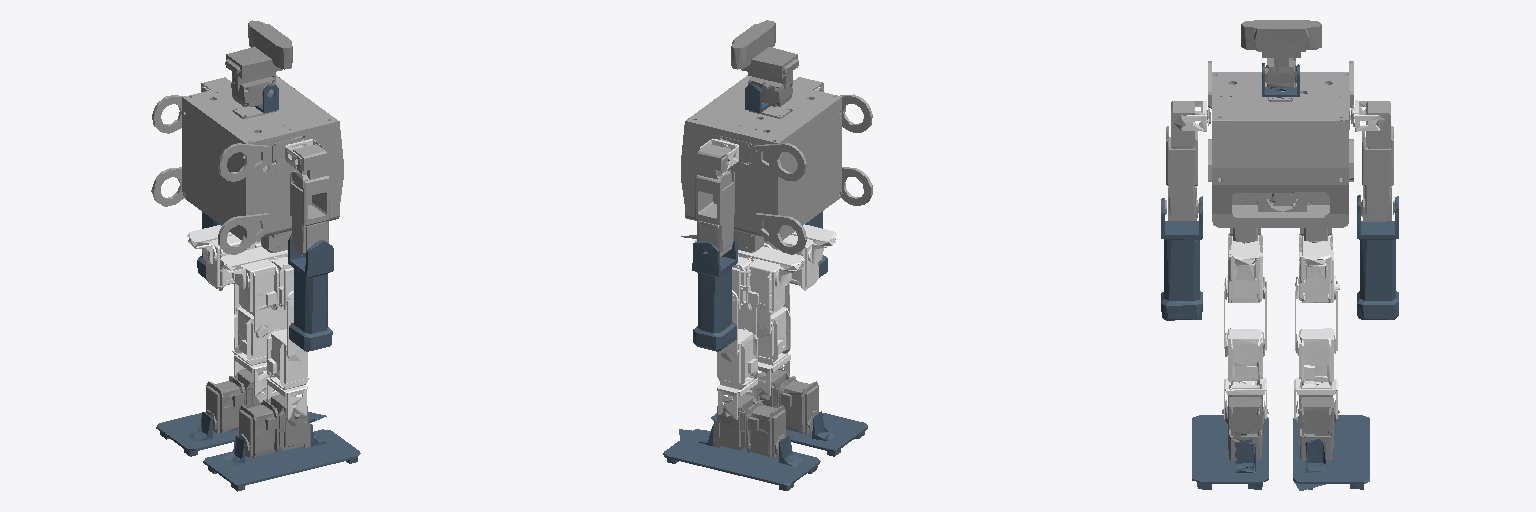
robot.urdf — bez2:
<?xml version="1.0" ?>
<!-- =================================================================================== -->
<!-- |    This document was autogenerated by xacro from bez2_description/urdf/bez2.xacro | -->
<!-- |    EDITING THIS FILE BY HAND IS NOT RECOMMENDED                                 | -->
<!-- =================================================================================== -->
<robot name="bez2" >
  <mujoco> <compiler fusestatic="false"/> </mujoco>
  <material name="silver_default">
    <color rgba="0.700 0.700 0.700 1.000"/>
  </material>
  <material name="aluminum_satin">
    <color rgba="0.9607843137254902 0.9607843137254902 0.9647058823529412 1.0"/>
  </material>
  <material name="steel_satin">
    <color rgba="0.6274509803921569 0.6274509803921569 0.6274509803921569 1.0"/>
  </material>
  <material name="abs_white">
    <color rgba="0.36470588235294116 0.4392156862745098 0.5098039215686274 1.0"/>
  </material>
  <link name="trunk">
    <inertial>
      <origin rpy="0 0 0" xyz="-0.1324929347181477 0.00329389202927954 -0.02671963219571571"/> <!-- cant decide between -0.14 -0.13 -0.12-->

      <mass value="1.4429325287174738"/>
      <inertia ixx="0.009761" ixy="7.9e-05" ixz="-0.000195" iyy="0.006663" iyz="8.1e-05" izz="0.008082"/>
    </inertial>
    <visual>
      <origin rpy="0 0 0" xyz="0 0 0"/>
      <geometry>
        <mesh filename="base_link.stl" scale="0.001 0.001 0.001"/>
      </geometry>
      <material name="silver_default"/>
    </visual>
    <collision>
      <origin rpy="0 0 0" xyz="0 0 0"/>
      <geometry>
        <mesh filename="base_link.stl" scale="0.001 0.001 0.001"/>
      </geometry>
    </collision>
  </link>
  <link name="left_hip_side">
    <inertial>
      <origin rpy="0 0 0" xyz="-0.0176303342104258 -2.8796409701214998e-15 -0.007188418776152797"/>
      <mass value="0.03929574358294283"/>
      <inertia ixx="7e-06" ixy="0.0" ixz="4e-06" iyy="9.2e-05" iyz="0.0" izz="9e-05"/>
    </inertial>
    <visual>
      <origin rpy="0 0 0" xyz="-0.016 -0.04125 0.1085"/>
      <geometry>
        <mesh filename="left_hip_side_v5_1.stl" scale="0.001 0.001 0.001"/>
      </geometry>
      <material name="aluminum_satin"/>
    </visual>
    <collision>
      <origin rpy="0 0 0" xyz="-0.016 -0.04125 0.1085"/>
      <geometry>
        <mesh filename="left_hip_side_v5_1.stl" scale="0.001 0.001 0.001"/>
      </geometry>
    </collision>
  </link>
  <link name="left_foot">
    <inertial>
      <origin rpy="0 0 0" xyz="0.05312327716355333 0.01311710007932914 -0.017187548637288774"/>
      <mass value="0.03929273129474386"/>
      <inertia ixx="2.6e-05" ixy="2e-06" ixz="-3e-06" iyy="0.000124" iyz="2e-06" izz="0.000144"/>
    </inertial>
    <visual>
      <origin rpy="0 0 0" xyz="0.054731 -0.04125 0.3685"/>
      <geometry>
        <mesh filename="left_foot_v10_1.stl" scale="0.001 0.001 0.001"/>
      </geometry>
      <material name="abs_white"/>
    </visual>
    <collision>
      <origin rpy="0 0 0" xyz="0.054731 -0.04125 0.3685"/>
      <geometry>
        <mesh filename="left_foot_v10_1.stl" scale="0.001 0.001 0.001"/>
      </geometry>
    </collision>
  </link>
  <link name="left_shoulder">
    <inertial>
      <origin rpy="0 0 0" xyz="8.922688803092438e-11 0.007844026821939576 2.0192181260370035e-14"/>
      <mass value="0.010592862408759271"/>
      <inertia ixx="1e-06" ixy="0.0" ixz="0.0" iyy="3e-06" iyz="-0.0" izz="3e-06"/>
    </inertial>
    <visual>
      <origin rpy="0 0 0" xyz="-0.003 -0.084 -0.04475"/>
      <geometry>
        <mesh filename="left_shoulder_v5_1.stl" scale="0.001 0.001 0.001"/>
      </geometry>
      <material name="aluminum_satin"/>
    </visual>
    <collision>
      <origin rpy="0 0 0" xyz="-0.003 -0.084 -0.04475"/>
      <geometry>
        <mesh filename="left_shoulder_v5_1.stl" scale="0.001 0.001 0.001"/>
      </geometry>
    </collision>
  </link>
  <link name="left_bicep">
    <inertial>
      <origin rpy="0 0 0" xyz="-0.019420473733666368 0.00010477857835172744 -0.06051458521988624"/>
      <mass value="0.18636400760544294"/>
      <inertia ixx="0.000442" ixy="0.0" ixz="-1e-05" iyy="0.000444" iyz="3e-06" izz="3.5e-05"/>
    </inertial>
    <visual>
      <origin rpy="0 0 0" xyz="-0.022 -0.1143 -0.04475"/>
      <geometry>
        <mesh filename="left_bicep_v6_1.stl" scale="0.001 0.001 0.001"/>
      </geometry>
      <material name="silver_default"/>
    </visual>
    <collision>
      <origin rpy="0 0 0" xyz="-0.022 -0.1143 -0.04475"/>
      <geometry>
        <mesh filename="left_bicep_v6_1.stl" scale="0.001 0.001 0.001"/>
      </geometry>
    </collision>
  </link>
  <link name="left_forearm">
    <inertial>
      <origin rpy="0 0 0" xyz="0.0004904443113911659 -0.01970036030468776 -0.0814474917977369"/>
      <mass value="0.05984540204112203"/>
      <inertia ixx="0.000124" ixy="-0.0" ixz="-0.0" iyy="0.000119" iyz="-0.0" izz="2.1e-05"/>
    </inertial>
    <visual>
      <origin rpy="0 0 0" xyz="-0.001597 -0.133101 0.074391"/>
      <geometry>
        <mesh filename="left_forearm_v4_1.stl" scale="0.001 0.001 0.001"/>
      </geometry>
      <material name="abs_white"/>
    </visual>
    <collision>
      <origin rpy="0 0 0" xyz="-0.001597 -0.133101 0.074391"/>
      <geometry>
        <mesh filename="left_forearm_v4_1.stl" scale="0.001 0.001 0.001"/>
      </geometry>
    </collision>
  </link>
  <link name="neck">
    <inertial>
      <origin rpy="0 0 0" xyz="8.936969206796164e-11 0.0012409815706136025 0.012040454865583"/>
      <mass value="0.004247113386163016"/>
      <inertia ixx="2e-06" ixy="-0.0" ixz="0.0" iyy="1e-06" iyz="-0.0" izz="2e-06"/>
    </inertial>
    <visual>
      <origin rpy="0 0 0" xyz="-0.0 -0.00025 -0.0725"/>
      <geometry>
        <mesh filename="neck_v6_1.stl" scale="0.001 0.001 0.001"/>
      </geometry>
      <material name="abs_white"/>
    </visual>
    <collision>
      <origin rpy="0 0 0" xyz="-0.0 -0.00025 -0.0725"/>
      <geometry>
        <mesh filename="neck_v6_1.stl" scale="0.001 0.001 0.001"/>
      </geometry>
    </collision>
  </link>
  <link name="head">
    <inertial>
      <origin rpy="0 0 0" xyz="-0.0025761957912120003 0.01899177474904292 0.03300593624682499"/>
      <mass value="0.26433915470596575"/>
      <inertia ixx="0.000237" ixy="-0.0" ixz="-5.6e-05" iyy="0.000239" iyz="-2e-06" izz="0.000166"/>
    </inertial>
    <visual>
      <origin rpy="0 0 0" xyz="-0.0 0.01825 -0.0975"/>
      <geometry>
        <mesh filename="head_v4_1.stl" scale="0.001 0.001 0.001"/>
      </geometry>
      <material name="steel_satin"/>
    </visual>
    <collision>
      <origin rpy="0 0 0" xyz="-0.0 0.01825 -0.0975"/>
      <geometry>
        <mesh filename="head_v4_1.stl" scale="0.001 0.001 0.001"/>
      </geometry>
    </collision>
  </link>
  <link name="right_hip_side">
    <inertial>
      <origin rpy="0 0 0" xyz="-0.017630334210425074 -2.7131075164277263e-15 -0.007188418776152866"/>
      <mass value="0.03929574358294283"/>
      <inertia ixx="7e-06" ixy="0.0" ixz="4e-06" iyy="9.2e-05" iyz="0.0" izz="9e-05"/>
    </inertial>
    <visual>
      <origin rpy="0 0 0" xyz="-0.016 0.04125 0.1085"/>
      <geometry>
        <mesh filename="right_hip_side_v1_1.stl" scale="0.001 0.001 0.001"/>
      </geometry>
      <material name="aluminum_satin"/>
    </visual>
    <collision>
      <origin rpy="0 0 0" xyz="-0.016 0.04125 0.1085"/>
      <geometry>
        <mesh filename="right_hip_side_v1_1.stl" scale="0.001 0.001 0.001"/>
      </geometry>
    </collision>
  </link>
  <link name="right_ankle">
    <inertial>
      <origin rpy="0 0 0" xyz="-0.019332548462524354 0.02355722240141854 -0.018170467896408804"/>
      <mass value="0.2722002973016189"/>
      <inertia ixx="0.000108" ixy="-0.0" ixz="-1.3e-05" iyy="0.000229" iyz="1e-06" izz="0.000189"/>
    </inertial>
    <visual>
      <origin rpy="0 0 0" xyz="-0.0116 0.06475 0.3325"/>
      <geometry>
        <mesh filename="right_ankle_v2_1.stl" scale="0.001 0.001 0.001"/>
      </geometry>
      <material name="steel_satin"/>
    </visual>
    <collision>
      <origin rpy="0 0 0" xyz="-0.0116 0.06475 0.3325"/>
      <geometry>
        <mesh filename="right_ankle_v2_1.stl" scale="0.001 0.001 0.001"/>
      </geometry>
    </collision>
  </link>
  <link name="right_foot">
    <inertial>
      <origin rpy="0 0 0" xyz="0.053123527163554944 -0.01311710007932746 -0.017187548637289052"/>
      <mass value="0.03929273129474384"/>
      <inertia ixx="2.6e-05" ixy="-2e-06" ixz="-3e-06" iyy="0.000124" iyz="-2e-06" izz="0.000144"/>
    </inertial>
    <visual>
      <origin rpy="0 0 0" xyz="0.0547 0.04125 0.3685"/>
      <geometry>
        <mesh filename="right_foot_v2_1.stl" scale="0.001 0.001 0.001"/>
      </geometry>
      <material name="abs_white"/>
    </visual>
    <collision>
      <origin rpy="0 0 0" xyz="0.0547 0.04125 0.3685"/>
      <geometry>
        <mesh filename="right_foot_v2_1.stl" scale="0.001 0.001 0.001"/>
      </geometry>
    </collision>
  </link>
  <link name="right_shoulder">
    <inertial>
      <origin rpy="0 0 0" xyz="8.958533047331851e-11 -0.007844026821937675 2.015054789694659e-14"/>
      <mass value="0.010592862408759271"/>
      <inertia ixx="1e-06" ixy="0.0" ixz="-0.0" iyy="3e-06" iyz="0.0" izz="3e-06"/>
    </inertial>
    <visual>
      <origin rpy="0 0 0" xyz="-0.003 0.084 -0.04475"/>
      <geometry>
        <mesh filename="right_shoulder_v1_1.stl" scale="0.001 0.001 0.001"/>
      </geometry>
      <material name="aluminum_satin"/>
    </visual>
    <collision>
      <origin rpy="0 0 0" xyz="-0.003 0.084 -0.04475"/>
      <geometry>
        <mesh filename="right_shoulder_v1_1.stl" scale="0.001 0.001 0.001"/>
      </geometry>
    </collision>
  </link>
  <link name="right_bicep">
    <inertial>
      <origin rpy="0 0 0" xyz="-0.01907144993358056 -0.0012317079698353356 -0.06051458521988612"/>
      <mass value="0.18636400760544294"/>
      <inertia ixx="0.000443" ixy="-0.0" ixz="-6e-06" iyy="0.000444" iyz="-1.1e-05" izz="3.5e-05"/>
    </inertial>
    <visual>
      <origin rpy="0 0 0" xyz="-0.022 0.1143 -0.04475"/>
      <geometry>
        <mesh filename="right_bicep_v2_1.stl" scale="0.001 0.001 0.001"/>
      </geometry>
      <material name="silver_default"/>
    </visual>
    <collision>
      <origin rpy="0 0 0" xyz="-0.022 0.1143 -0.04475"/>
      <geometry>
        <mesh filename="right_bicep_v2_1.stl" scale="0.001 0.001 0.001"/>
      </geometry>
    </collision>
  </link>
  <link name="right_forearm">
    <inertial>
      <origin rpy="0 0 0" xyz="0.0004903254970113039 0.019700355234835765 -0.08144749179773612"/>
      <mass value="0.05984540204112203"/>
      <inertia ixx="0.000124" ixy="-0.0" ixz="-0.0" iyy="0.000119" iyz="-0.0" izz="2.1e-05"/>
    </inertial>
    <visual>
      <origin rpy="0 0 0" xyz="-0.002403 0.135101 0.074391"/>
      <geometry>
        <mesh filename="right_forearm_v1_1.stl" scale="0.001 0.001 0.001"/>
      </geometry>
      <material name="abs_white"/>
    </visual>
    <collision>
      <origin rpy="0 0 0" xyz="-0.002403 0.135101 0.074391"/>
      <geometry>
        <mesh filename="right_forearm_v1_1.stl" scale="0.001 0.001 0.001"/>
      </geometry>
    </collision>
  </link>
  <link name="left_thigh">
    <inertial>
      <origin rpy="0 0 0" xyz="-3.483251756527389e-07 -0.028961129249142487 -0.036619318233349435"/>
      <mass value="0.02898284927838432"/>
      <inertia ixx="3.5e-05" ixy="0.0" ixz="0.0" iyy="2.1e-05" iyz="-0.0" izz="1.7e-05"/>
    </inertial>
    <visual>
      <origin rpy="0 0 0" xyz="-0.011569 -0.06475 0.1725"/>
      <geometry>
        <mesh filename="left_thigh_v1_1.stl" scale="0.001 0.001 0.001"/>
      </geometry>
      <material name="aluminum_satin"/>
    </visual>
    <collision>
      <origin rpy="0 0 0" xyz="-0.011569 -0.06475 0.1725"/>
      <geometry>
        <mesh filename="left_thigh_v1_1.stl" scale="0.001 0.001 0.001"/>
      </geometry>
    </collision>
  </link>
  <link name="right_thigh">
    <inertial>
      <origin rpy="0 0 0" xyz="9.832517461512424e-08 0.028961129249143854 -0.03661931823334971"/>
      <mass value="0.02898284927838432"/>
      <inertia ixx="3.5e-05" ixy="0.0" ixz="-0.0" iyy="2.1e-05" iyz="0.0" izz="1.7e-05"/>
    </inertial>
    <visual>
      <origin rpy="0 0 0" xyz="-0.0116 0.06475 0.1725"/>
      <geometry>
        <mesh filename="right_thigh_v1_1.stl" scale="0.001 0.001 0.001"/>
      </geometry>
      <material name="aluminum_satin"/>
    </visual>
    <collision>
      <origin rpy="0 0 0" xyz="-0.0116 0.06475 0.1725"/>
      <geometry>
        <mesh filename="right_thigh_v1_1.stl" scale="0.001 0.001 0.001"/>
      </geometry>
    </collision>
  </link>
  <link name="left_hip_front">
    <inertial>
      <origin rpy="0 0 0" xyz="0.04719163872713075 0.0001729815107887056 -0.01748011628225432"/>
      <mass value="0.2722002973016189"/>
      <inertia ixx="0.000107" ixy="-1e-06" ixz="1e-05" iyy="0.000233" iyz="2e-06" izz="0.000192"/>
    </inertial>
    <visual>
      <origin rpy="0 0 0" xyz="0.0547 -0.04125 0.1365"/>
      <geometry>
        <mesh filename="left_hip_front_v5_1.stl" scale="0.001 0.001 0.001"/>
      </geometry>
      <material name="aluminum_satin"/>
    </visual>
    <collision>
      <origin rpy="0 0 0" xyz="0.0547 -0.04125 0.1365"/>
      <geometry>
        <mesh filename="left_hip_front_v5_1.stl" scale="0.001 0.001 0.001"/>
      </geometry>
    </collision>
  </link>
  <link name="left_calve">
    <inertial>
      <origin rpy="0 0 0" xyz="-5.272168187817235e-05 -0.023766836658218507 -0.023901439852959505"/>
      <mass value="0.15898038946070936"/>
      <inertia ixx="0.000124" ixy="0.0" ixz="-0.0" iyy="0.000107" iyz="-8e-06" izz="4.4e-05"/>
    </inertial>
    <visual>
      <origin rpy="0 0 0" xyz="-0.011569 -0.06475 0.2445"/>
      <geometry>
        <mesh filename="left_calve_v5_1.stl" scale="0.001 0.001 0.001"/>
      </geometry>
      <material name="aluminum_satin"/>
    </visual>
    <collision>
      <origin rpy="0 0 0" xyz="-0.011569 -0.06475 0.2445"/>
      <geometry>
        <mesh filename="left_calve_v5_1.stl" scale="0.001 0.001 0.001"/>
      </geometry>
    </collision>
  </link>
  <link name="left_ankle">
    <inertial>
      <origin rpy="0 0 0" xyz="-0.01908804310535514 -0.023327010944413494 -0.018519883717742103"/>
      <mass value="0.2722002973016189"/>
      <inertia ixx="0.000107" ixy="-1e-06" ixz="-1e-05" iyy="0.000233" iyz="-2e-06" izz="0.000192"/>
    </inertial>
    <visual>
      <origin rpy="0 0 0" xyz="-0.011569 -0.06475 0.3325"/>
      <geometry>
        <mesh filename="left_ankle_v7_1.stl" scale="0.001 0.001 0.001"/>
      </geometry>
      <material name="steel_satin"/>
    </visual>
    <collision>
      <origin rpy="0 0 0" xyz="-0.011569 -0.06475 0.3325"/>
      <geometry>
        <mesh filename="left_ankle_v7_1.stl" scale="0.001 0.001 0.001"/>
      </geometry>
    </collision>
  </link>
  <link name="right_hip_front">
    <inertial>
      <origin rpy="0 0 0" xyz="0.04721220689744356 -0.0001729890555860411 -0.01748011628225596"/>
      <mass value="0.2722002973016189"/>
      <inertia ixx="0.000107" ixy="1e-06" ixz="1e-05" iyy="0.000233" iyz="-2e-06" izz="0.000192"/>
    </inertial>
    <visual>
      <origin rpy="0 0 0" xyz="0.0547 0.04125 0.1365"/>
      <geometry>
        <mesh filename="right_hip_front_v5_1.stl" scale="0.001 0.001 0.001"/>
      </geometry>
      <material name="aluminum_satin"/>
    </visual>
    <collision>
      <origin rpy="0 0 0" xyz="0.0547 0.04125 0.1365"/>
      <geometry>
        <mesh filename="right_hip_front_v5_1.stl" scale="0.001 0.001 0.001"/>
      </geometry>
    </collision>
  </link>
  <link name="right_calve">
    <inertial>
      <origin rpy="0 0 0" xyz="5.247168187765515e-05 0.02376683665821997 -0.023901439852960005"/>
      <mass value="0.15898038946070936"/>
      <inertia ixx="0.000124" ixy="0.0" ixz="0.0" iyy="0.000107" iyz="8e-06" izz="4.4e-05"/>
    </inertial>
    <visual>
      <origin rpy="0 0 0" xyz="-0.0116 0.06475 0.2445"/>
      <geometry>
        <mesh filename="right_calve_v1_1.stl" scale="0.001 0.001 0.001"/>
      </geometry>
      <material name="aluminum_satin"/>
    </visual>
    <collision>
      <origin rpy="0 0 0" xyz="-0.0116 0.06475 0.2445"/>
      <geometry>
        <mesh filename="right_calve_v1_1.stl" scale="0.001 0.001 0.001"/>
      </geometry>
    </collision>
  </link>


  <joint name="head_yaw" type="revolute">
    <origin rpy="0 0 0" xyz="0.0 0.00025 0.0725"/>
    <parent link="trunk"/>
    <child link="neck"/>
    <axis xyz="-0.0 0.0 1.0"/>
    <dynamics damping="0" friction="0"/>
    <limit effort="1.5" lower="-1.5707963267948966" upper="1.5707963267948966" velocity="6.39"/>
  </joint>
  <joint name="head_pitch" type="revolute">
    <origin rpy="0 0 0" xyz="0.0 -0.0185 0.025"/>
    <parent link="neck"/>
    <child link="head"/>
    <axis xyz="0.0 1.0 0.0"/>
    <dynamics damping="0" friction="0"/>
    <limit effort="1.5" lower="0" upper="1.5707963267948966" velocity="6.39"/>
  </joint>

  <joint name="left_shoulder_pitch" type="revolute">
    <origin rpy="0 0 0" xyz="0.003 0.084 0.04475"/>
    <parent link="trunk"/>
    <child link="left_shoulder"/>
    <axis xyz="-0.0 -1.0 -0.0"/>
    <dynamics damping="0" friction="0"/>
    <limit effort="4.1" lower="-3.141592653589793" upper="3.9269908169872414" velocity="4.82"/>
  </joint>
  <joint name="left_shoulder_roll" type="revolute">
    <origin rpy="0 0 0" xyz="0.019 0.0303 0.0"/>
    <parent link="left_shoulder"/>
    <child link="left_bicep"/>
    <axis xyz="1.0 -0.0 0.0"/>
    <dynamics damping="0" friction="0"/>
    <limit effort="4.1" lower="0" upper="1.5707963267948966" velocity="4.82"/>
  </joint>
  <joint name="left_elbow" type="revolute">
    <origin rpy="0 0 0" xyz="-0.020403 0.018801 -0.119141"/>
    <parent link="left_bicep"/>
    <child link="left_forearm"/>
    <axis xyz="-0.0 -1.0 -0.0"/>
    <dynamics damping="0" friction="0"/>
    <limit effort="4.1" lower="0" upper="3.141592653589793" velocity="4.82"/>
  </joint>

  <joint name="left_hip_yaw" type="revolute">
    <origin rpy="0 0 0" xyz="0.016 0.04125 -0.1085"/>
    <parent link="trunk"/>
    <child link="left_hip_side"/>
    <axis xyz="-0.0 -0.0 -1.0"/>
    <dynamics damping="0" friction="0"/>
    <limit effort="4.1" lower="-1.309" upper="0.524" velocity="4.82"/>
  </joint>
  <joint name="left_hip_roll" type="revolute">
    <origin rpy="0 0 0" xyz="-0.0707 0.0 -0.028"/>
    <parent link="left_hip_side"/>
    <child link="left_hip_front"/>
    <axis xyz="1.0 -0.0 0.0"/>
    <dynamics damping="0" friction="0"/>
    <limit effort="6.0" lower="-0.7853981633974483" upper="1.5707963267948966" velocity="6.6"/>
  </joint>
  <joint name="left_hip_pitch" type="revolute">
    <origin rpy="0 0 0" xyz="0.066269 0.0235 -0.036"/>
    <parent link="left_hip_front"/>
    <child link="left_thigh"/>
    <axis xyz="-0.0 -1.0 0.0"/>
    <dynamics damping="0" friction="0"/>
    <limit effort="6.0" lower="-0.7853981633974483" upper="2.356194490192345" velocity="6.6"/>
  </joint>
  <joint name="left_knee" type="revolute">
    <origin rpy="0 0 0" xyz="0.0 0.0 -0.072"/>
    <parent link="left_thigh"/>
    <child link="left_calve"/>
    <axis xyz="0.0 -1.0 -0.0"/>
    <dynamics damping="0" friction="0"/>
    <limit effort="6.0" lower="-2.793" upper="0" velocity="6.6"/>
  </joint>
  <joint name="left_ankle_pitch" type="revolute">
    <origin rpy="0 0 0" xyz="0.0 0.0 -0.088"/>
    <parent link="left_calve"/>
    <child link="left_ankle"/>
    <axis xyz="0.0 -1.0 0.0"/>
    <dynamics damping="0" friction="0"/>
    <limit effort="6.0" lower="-0.7853981633974483" upper="1.5707963267948966" velocity="6.6"/>
  </joint>
  <joint name="left_ankle_roll" type="revolute">
    <origin rpy="0 0 0" xyz="-0.0663 -0.0235 -0.036"/>
    <parent link="left_ankle"/>
    <child link="left_foot"/>
    <axis xyz="1.0 -0.0 0.0"/>
    <dynamics damping="0" friction="0"/>
    <limit effort="6.0" lower="-0.7853981633974483" upper="0.7853981633974483" velocity="6.6"/>
  </joint>

  <joint name="right_shoulder_pitch" type="revolute">
    <origin rpy="0 0 0" xyz="0.003 -0.084 0.04475"/>
    <parent link="trunk"/>
    <child link="right_shoulder"/>
    <axis xyz="-0.0 -1.0 -0.0"/>
    <dynamics damping="0" friction="0"/>
    <limit effort="4.1" lower="-3.141592653589793" upper="3.9269908169872414" velocity="4.82"/>
  </joint>
  <joint name="right_shoulder_roll" type="revolute">
    <origin rpy="0 0 0" xyz="0.019 -0.0303 0.0"/>
    <parent link="right_shoulder"/>
    <child link="right_bicep"/>
    <axis xyz="-1.0 0.0 -0.0"/>
    <dynamics damping="0" friction="0"/>
    <limit effort="4.1" lower="0" upper="1.5707963267948966" velocity="4.82"/>
  </joint>
  <joint name="right_elbow" type="revolute">
    <origin rpy="0 0 0" xyz="-0.019597 -0.020801 -0.119141"/>
    <parent link="right_bicep"/>
    <child link="right_forearm"/>
    <axis xyz="-0.0 -1.0 0.0"/>
    <dynamics damping="0" friction="0"/>
    <limit effort="4.1" lower="0" upper="3.141592653589793" velocity="4.82"/>
  </joint>

  <joint name="right_hip_yaw" type="revolute">
    <origin rpy="0 0 0" xyz="0.016 -0.04125 -0.1085"/>
    <parent link="trunk"/>
    <child link="right_hip_side"/>
    <axis xyz="-0.0 0.0 1.0"/>
    <dynamics damping="0" friction="0"/>
    <limit effort="4.1" lower="-1.309" upper="0.524" velocity="4.82"/>
  </joint>
  <joint name="right_hip_roll" type="revolute">
    <origin rpy="0 0 0" xyz="-0.0707 0.0 -0.028"/>
    <parent link="right_hip_side"/>
    <child link="right_hip_front"/>
    <axis xyz="-1.0 -0.0 -0.0"/>
    <dynamics damping="0" friction="0"/>
    <limit effort="6.0" lower="-0.7853981633974483" upper="1.5707963267948966" velocity="6.6"/>
  </joint>
  <joint name="right_hip_pitch" type="revolute">
    <origin rpy="0 0 0" xyz="0.0663 -0.0235 -0.036"/>
    <parent link="right_hip_front"/>
    <child link="right_thigh"/>
    <axis xyz="-0.0 -1.0 0.0"/>
    <dynamics damping="0" friction="0"/>
    <limit effort="6.0" lower="-0.7853981633974483" upper="2.356194490192345" velocity="6.6"/>
  </joint>
  <joint name="right_knee" type="revolute">
    <origin rpy="0 0 0" xyz="0.0 0.0 -0.072"/>
    <parent link="right_thigh"/>
    <child link="right_calve"/>
    <axis xyz="0.0 -1.0 -0.0"/>
    <dynamics damping="0" friction="0"/>
    <limit effort="6.0" lower="-2.793" upper="0" velocity="6.6"/>
  </joint>
  <joint name="right_ankle_pitch" type="revolute">
    <origin rpy="0 0 0" xyz="0.0 0.0 -0.088"/>
    <parent link="right_calve"/>
    <child link="right_ankle"/>
    <axis xyz="-0.0 -1.0 0.0"/>
    <dynamics damping="0" friction="0"/>
    <limit effort="6.0" lower="-0.7853981633974483" upper="1.5707963267948966" velocity="6.6"/>
  </joint>
  <joint name="right_ankle_roll" type="revolute">
    <origin rpy="0 0 0" xyz="-0.0663 0.0235 -0.036"/>
    <parent link="right_ankle"/>
    <child link="right_foot"/>
    <axis xyz="-1.0 -0.0 0.0"/>
    <dynamics damping="0" friction="0"/>
    <limit effort="6.0" lower="-0.7853981633974483" upper="0.7853981633974483" velocity="6.6"/>
  </joint>
  <link name="imu_link">
    <inertial>
      <mass value="0.01"/>
      <origin rpy="0  0  0" xyz="0 0 0"/>
      <inertia ixx="1e-9" ixy="0" ixz="0" iyy="1e-9" iyz="0" izz="1e-9"/>
    </inertial>
  </link>
  <joint name="torso_imu" type="fixed">
    <parent link="trunk"/>
    <child link="imu_link"/>
    <origin rpy="0 0 0" xyz="0.0 0 0.000"/>
    <axis xyz="0 0 0"/>
  </joint>
  <link name="camera">
    <inertial>
      <origin xyz="0.0 0.0 0.0" rpy="0.0 0.0 0.0"/>
      <mass value="0.01"/>
      <inertia ixx="1e-09" ixy="0.0" ixz="0.0" iyy="1e-09" iyz="0.0" izz="1e-09"/>
    </inertial>
  </link>
  <joint name="camera_frame" type="fixed">
    <origin xyz="0.015 0.00145 0.0474" rpy="0.0 0.0 0.0"/>
    <axis xyz="0.0 0.0 0.0"/>
    <parent link="head"/>
    <child link="camera"/>
    <limit effort="0.0" lower="0.0" upper="0.0" velocity="0.0"/>
    <dynamics damping="0.01" friction="0.1"/>
  </joint>
</robot>

--- What the picture shows (computed from the rendered views, not written in the file) ---
Views: 3 orthographic renders of the robot side by side, from view 1: azimuth 30°, elevation 25°; view 2: azimuth 150°, elevation 25°; view 3: azimuth 270°, elevation 25°.
Robot: bez2 — 23 links, 22 joints (20 revolute, 2 fixed); root link trunk; default pose: every joint at zero.
Visible links, largest first — view 1: trunk, right_foot, right_forearm, right_bicep, head, right_ankle, right_calve, right_hip_front, left_ankle, left_foot, left_calve, right_hip_side (+3 smaller); view 2: trunk, left_foot, left_forearm, left_bicep, head, left_ankle, left_calve, left_hip_front, right_ankle, right_calve, right_foot, left_hip_side (+3 smaller); view 3: trunk, left_foot, right_foot, left_forearm, right_forearm, head, left_bicep, right_bicep, left_calve, right_calve, right_ankle, left_ankle (+6 smaller).
Link boxes in pixels (left/top/right/bottom): trunk: left=151, top=75, right=343, bottom=254; right_foot: left=203, top=423, right=360, bottom=491; right_forearm: left=288, top=234, right=333, bottom=351; right_bicep: left=290, top=144, right=329, bottom=257; head: left=225, top=20, right=292, bottom=106; right_ankle: left=239, top=394, right=310, bottom=457; right_calve: left=267, top=329, right=309, bottom=419; right_hip_front: left=239, top=254, right=293, bottom=315; left_ankle: left=206, top=369, right=274, bottom=433; left_foot: left=156, top=412, right=326, bottom=456; left_calve: left=232, top=306, right=273, bottom=402; right_hip_side: left=220, top=241, right=329, bottom=288; trunk: left=681, top=75, right=872, bottom=254; left_foot: left=663, top=421, right=820, bottom=490; left_forearm: left=692, top=234, right=737, bottom=351; left_bicep: left=695, top=144, right=734, bottom=256; head: left=731, top=20, right=798, bottom=106; left_ankle: left=714, top=393, right=785, bottom=457; left_calve: left=717, top=329, right=757, bottom=419; left_hip_front: left=732, top=254, right=785, bottom=314; right_ankle: left=757, top=368, right=818, bottom=433; right_calve: left=757, top=307, right=790, bottom=400; right_foot: left=711, top=411, right=867, bottom=456; left_hip_side: left=694, top=239, right=804, bottom=287; trunk: left=1207, top=61, right=1354, bottom=243; left_foot: left=1293, top=415, right=1369, bottom=490; right_foot: left=1192, top=415, right=1268, bottom=489; left_forearm: left=1357, top=195, right=1398, bottom=319; right_forearm: left=1161, top=196, right=1202, bottom=320; head: left=1241, top=20, right=1321, bottom=88; left_bicep: left=1361, top=101, right=1394, bottom=221; right_bicep: left=1165, top=101, right=1198, bottom=221; left_calve: left=1294, top=328, right=1337, bottom=422; right_calve: left=1224, top=328, right=1266, bottom=424; right_ankle: left=1222, top=395, right=1268, bottom=459; left_ankle: left=1298, top=384, right=1339, bottom=459.
Size in the robot's own frame: 0.2195 by 0.2779 by 0.5679 metres.
Meshes: 21 distinct files referenced, 21 mesh visuals loaded (21 binary STL).
